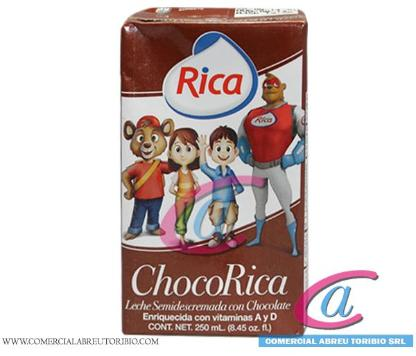Others: (112, 2, 314, 342)
